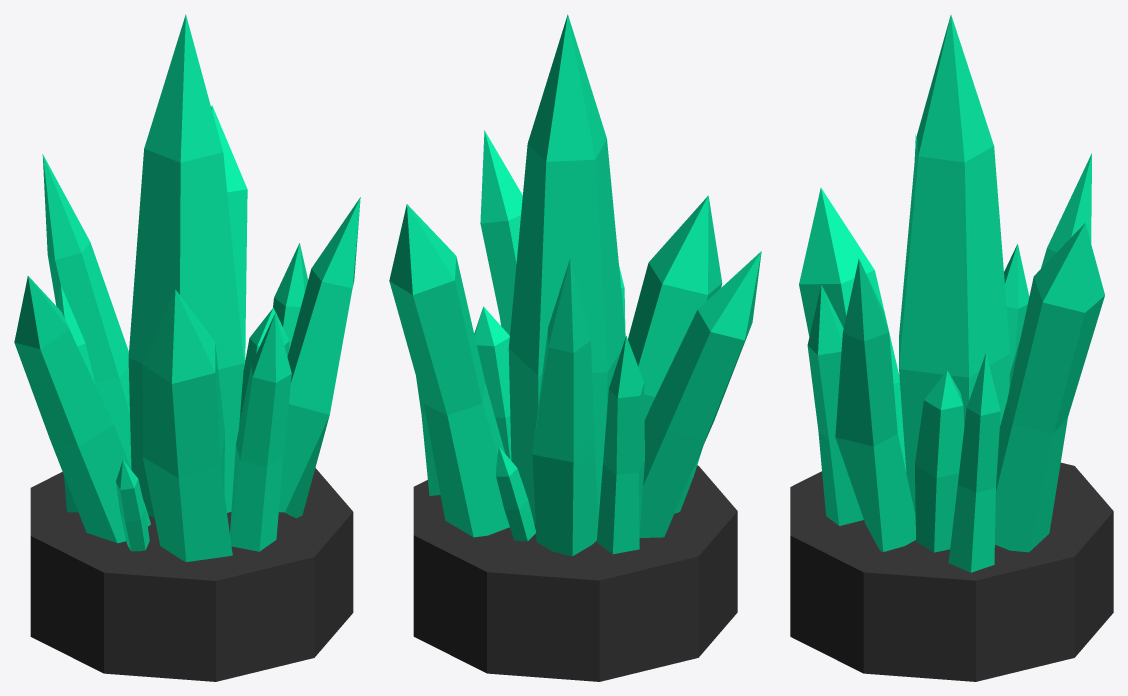
File: Mineral.fbx
3 views of the same model, side by side, from view 1: azimuth 30°, elevation 25°; view 2: azimuth 150°, elevation 25°; view 3: azimuth 270°, elevation 25° (orthographic).
Visible parts, largest first — view 1: Mineral_Base, Crystal, Crystal.005, Crystal.006, Crystal.004, Crystal.011, Crystal.001, Crystal.003, Crystal.009, Crystal.010, Crystal.008, Crystal.002; view 2: Mineral_Base, Crystal, Crystal.003, Crystal.006, Crystal.011, Crystal.005, Crystal.002, Crystal.004, Crystal.008, Crystal.012, Crystal.010; view 3: Mineral_Base, Crystal, Crystal.003, Crystal.004, Crystal.010, Crystal.008, Crystal.005, Crystal.001, Crystal.011, Crystal.002.
Boxes of the visible parts, left/top/right/bottom form: Mineral_Base: left=30, top=468, right=353, bottom=681; Crystal: left=128, top=14, right=243, bottom=517; Crystal.005: left=142, top=289, right=232, bottom=561; Crystal.006: left=14, top=276, right=150, bottom=543; Crystal.004: left=279, top=197, right=360, bottom=518; Crystal.011: left=42, top=154, right=131, bottom=468; Crystal.001: left=230, top=313, right=291, bottom=551; Crystal.003: left=211, top=105, right=247, bottom=368; Crystal.009: left=116, top=460, right=149, bottom=551; Crystal.010: left=273, top=243, right=307, bottom=348; Crystal.008: left=239, top=307, right=289, bottom=427; Crystal.002: left=57, top=286, right=95, bottom=512; Mineral_Base: left=413, top=465, right=737, bottom=681; Crystal: left=508, top=14, right=625, bottom=524; Crystal.003: left=389, top=204, right=509, bottom=537; Crystal.006: left=639, top=251, right=761, bottom=537; Crystal.011: left=532, top=258, right=598, bottom=556; Crystal.005: left=628, top=195, right=722, bottom=419; Crystal.002: left=596, top=336, right=644, bottom=554; Crystal.004: left=480, top=130, right=522, bottom=335; Crystal.008: left=474, top=306, right=511, bottom=460; Crystal.012: left=496, top=447, right=535, bottom=541; Crystal.010: left=416, top=376, right=440, bottom=495; Mineral_Base: left=790, top=462, right=1113, bottom=681; Crystal: left=899, top=15, right=1010, bottom=515; Crystal.003: left=995, top=223, right=1104, bottom=552; Crystal.004: left=835, top=259, right=915, bottom=551; Crystal.010: left=948, top=353, right=1000, bottom=572; Crystal.008: left=915, top=370, right=964, bottom=552; Crystal.005: left=799, top=187, right=905, bottom=470; Crystal.001: left=807, top=285, right=863, bottom=525; Crystal.011: left=1009, top=153, right=1091, bottom=389; Crystal.002: left=1004, top=244, right=1029, bottom=373.
Size of the model in its own units: 55.05 by 99.04 by 48.49.
